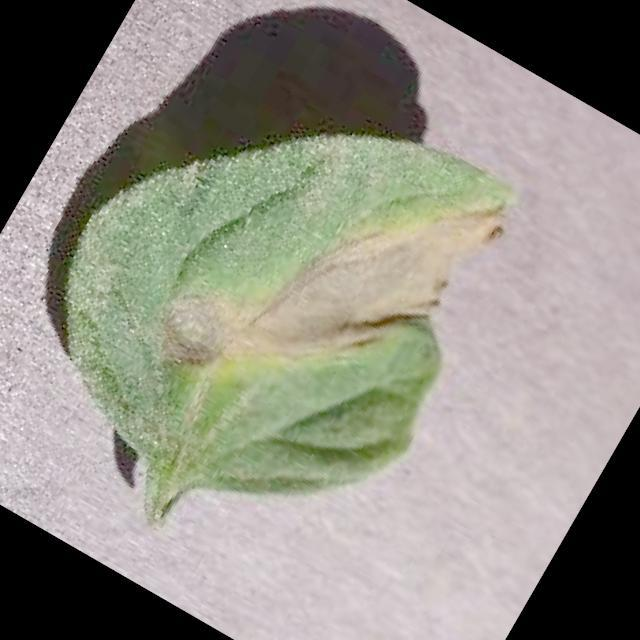Tomato Early blight leaf: (0, 12, 551, 578)
